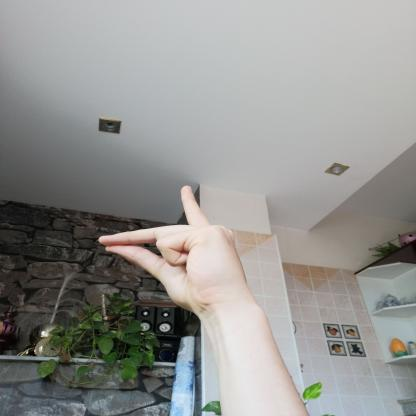TAA: (87, 176, 262, 321)
